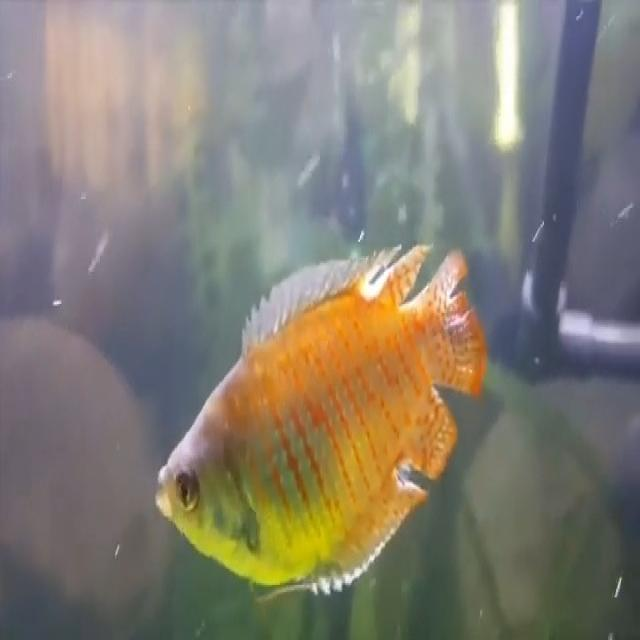fish: (153, 244, 491, 603)
